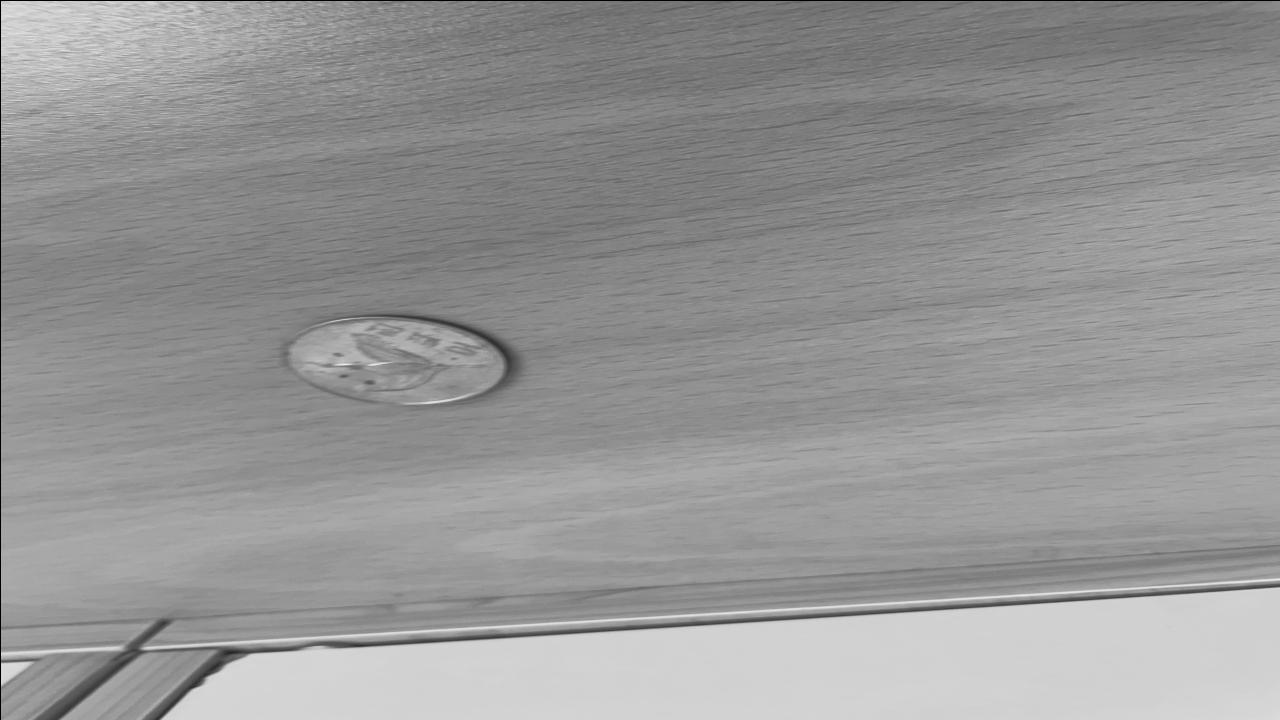coin: (276, 312, 518, 408)
